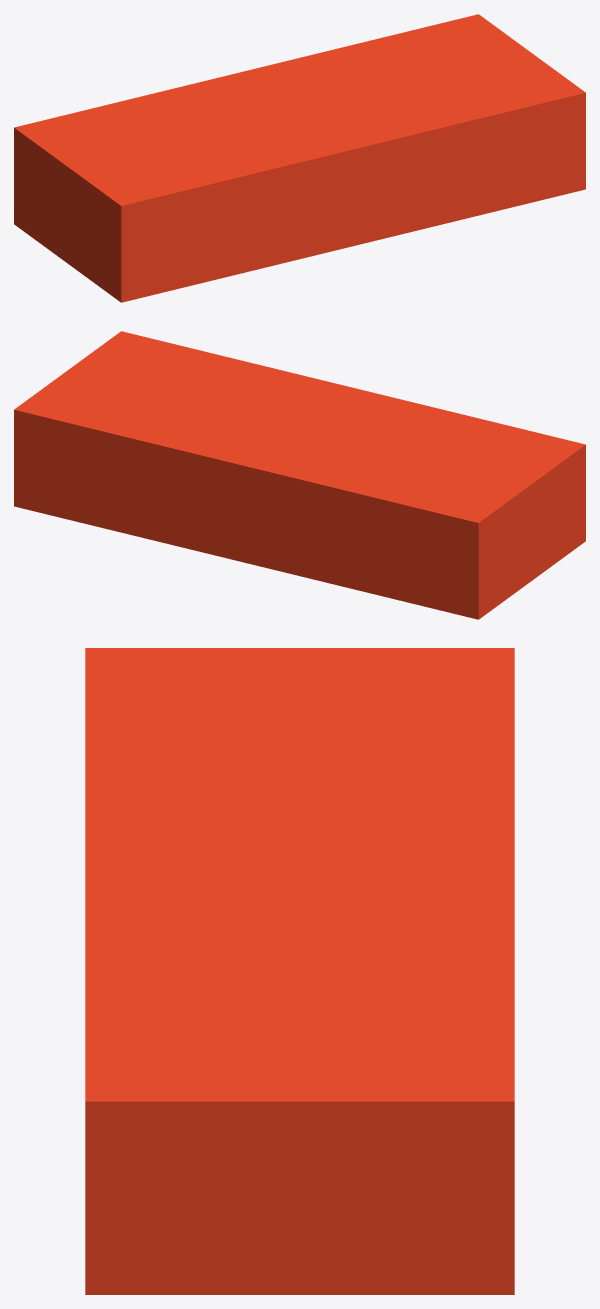
Rendered from SM_Skate_Block_City.fbx.
3 views of the same model, one above another, from view 1: azimuth 30°, elevation 25°; view 2: azimuth 150°, elevation 25°; view 3: azimuth 270°, elevation 25° (orthographic). The views are drawn at different scales.
Parts seen in each view (by area): view 1: SM_Skate_Block_City; view 2: SM_Skate_Block_City; view 3: SM_Skate_Block_City.
Part boxes in pixels (x1=…): SM_Skate_Block_City: x1=14, y1=14, x2=585, y2=302; SM_Skate_Block_City: x1=14, y1=331, x2=585, y2=619; SM_Skate_Block_City: x1=85, y1=648, x2=514, y2=1294.
Size of the model in its own units: 5 by 0.9945 by 2.
